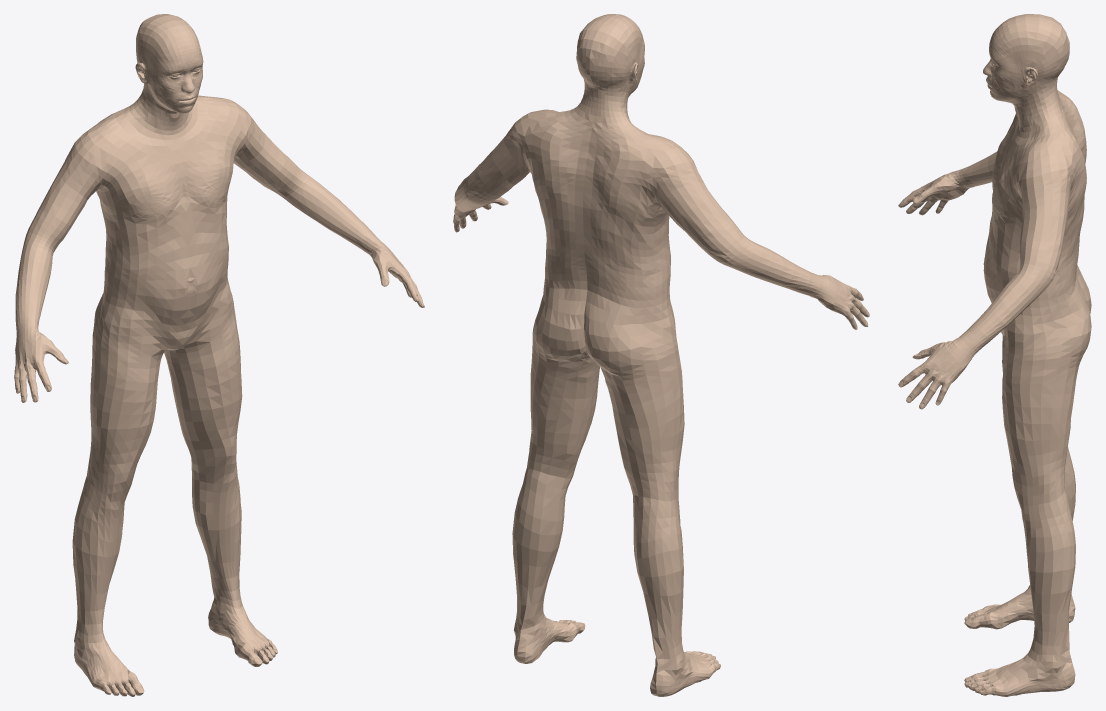
The model's file is male-adult-max-medium.glb.
The picture shows the model from 3 angles, left to right: view 1: azimuth 30°, elevation 25°; view 2: azimuth 150°, elevation 25°; view 3: azimuth 270°, elevation 25°; orthographic projection.
Visible parts, largest first — view 1: world; view 2: world; view 3: world.
Boxes of the visible parts, bbox=[...] form: world: bbox=[14, 14, 424, 696]; world: bbox=[453, 14, 869, 696]; world: bbox=[898, 14, 1091, 696].
Bounding box in the file's own units: 1.28 × 1.95 × 0.5334.
